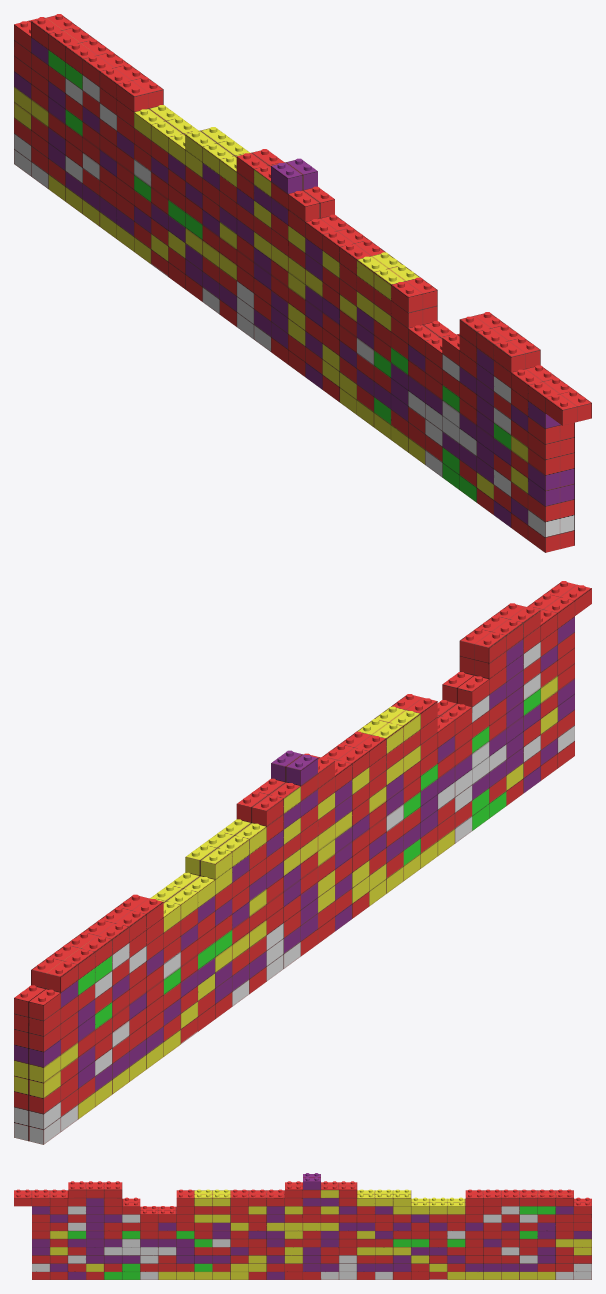
File: LegoWall 2.fbx
3 renders of one model, top to bottom at view 1: azimuth 30°, elevation 25°; view 2: azimuth 150°, elevation 25°; view 3: azimuth 270°, elevation 25°, orthographic. The views are drawn at different scales.
Parts seen in each view (by area): view 1: Wall, BrickTopRowRed.009; view 2: Wall, BrickTopRowRed.009; view 3: Wall, BrickTopRowRed.009, BrickTopRowRed.008, BrickTopRowRed.005, BrickTopRowYellow.001, BrickTopRowRed.001, BrickTopRowYellow.002.
Part boxes in pixels (box(x1,y1,x2,y2)): Wall: box(14, 15, 591, 552); BrickTopRowRed.009: box(37, 14, 157, 93); Wall: box(14, 582, 591, 1144); BrickTopRowRed.009: box(37, 894, 157, 973); Wall: box(14, 1174, 591, 1279); BrickTopRowRed.009: box(468, 1189, 571, 1197); BrickTopRowRed.008: box(16, 1189, 65, 1197); BrickTopRowRed.005: box(233, 1189, 282, 1197); BrickTopRowYellow.001: box(359, 1189, 408, 1197); BrickTopRowRed.001: box(70, 1181, 119, 1188); BrickTopRowYellow.002: box(413, 1197, 462, 1205).
Bounding box in the file's own units: 100 × 610 × 3200.
Materials: 1 (1 with a texture image).
